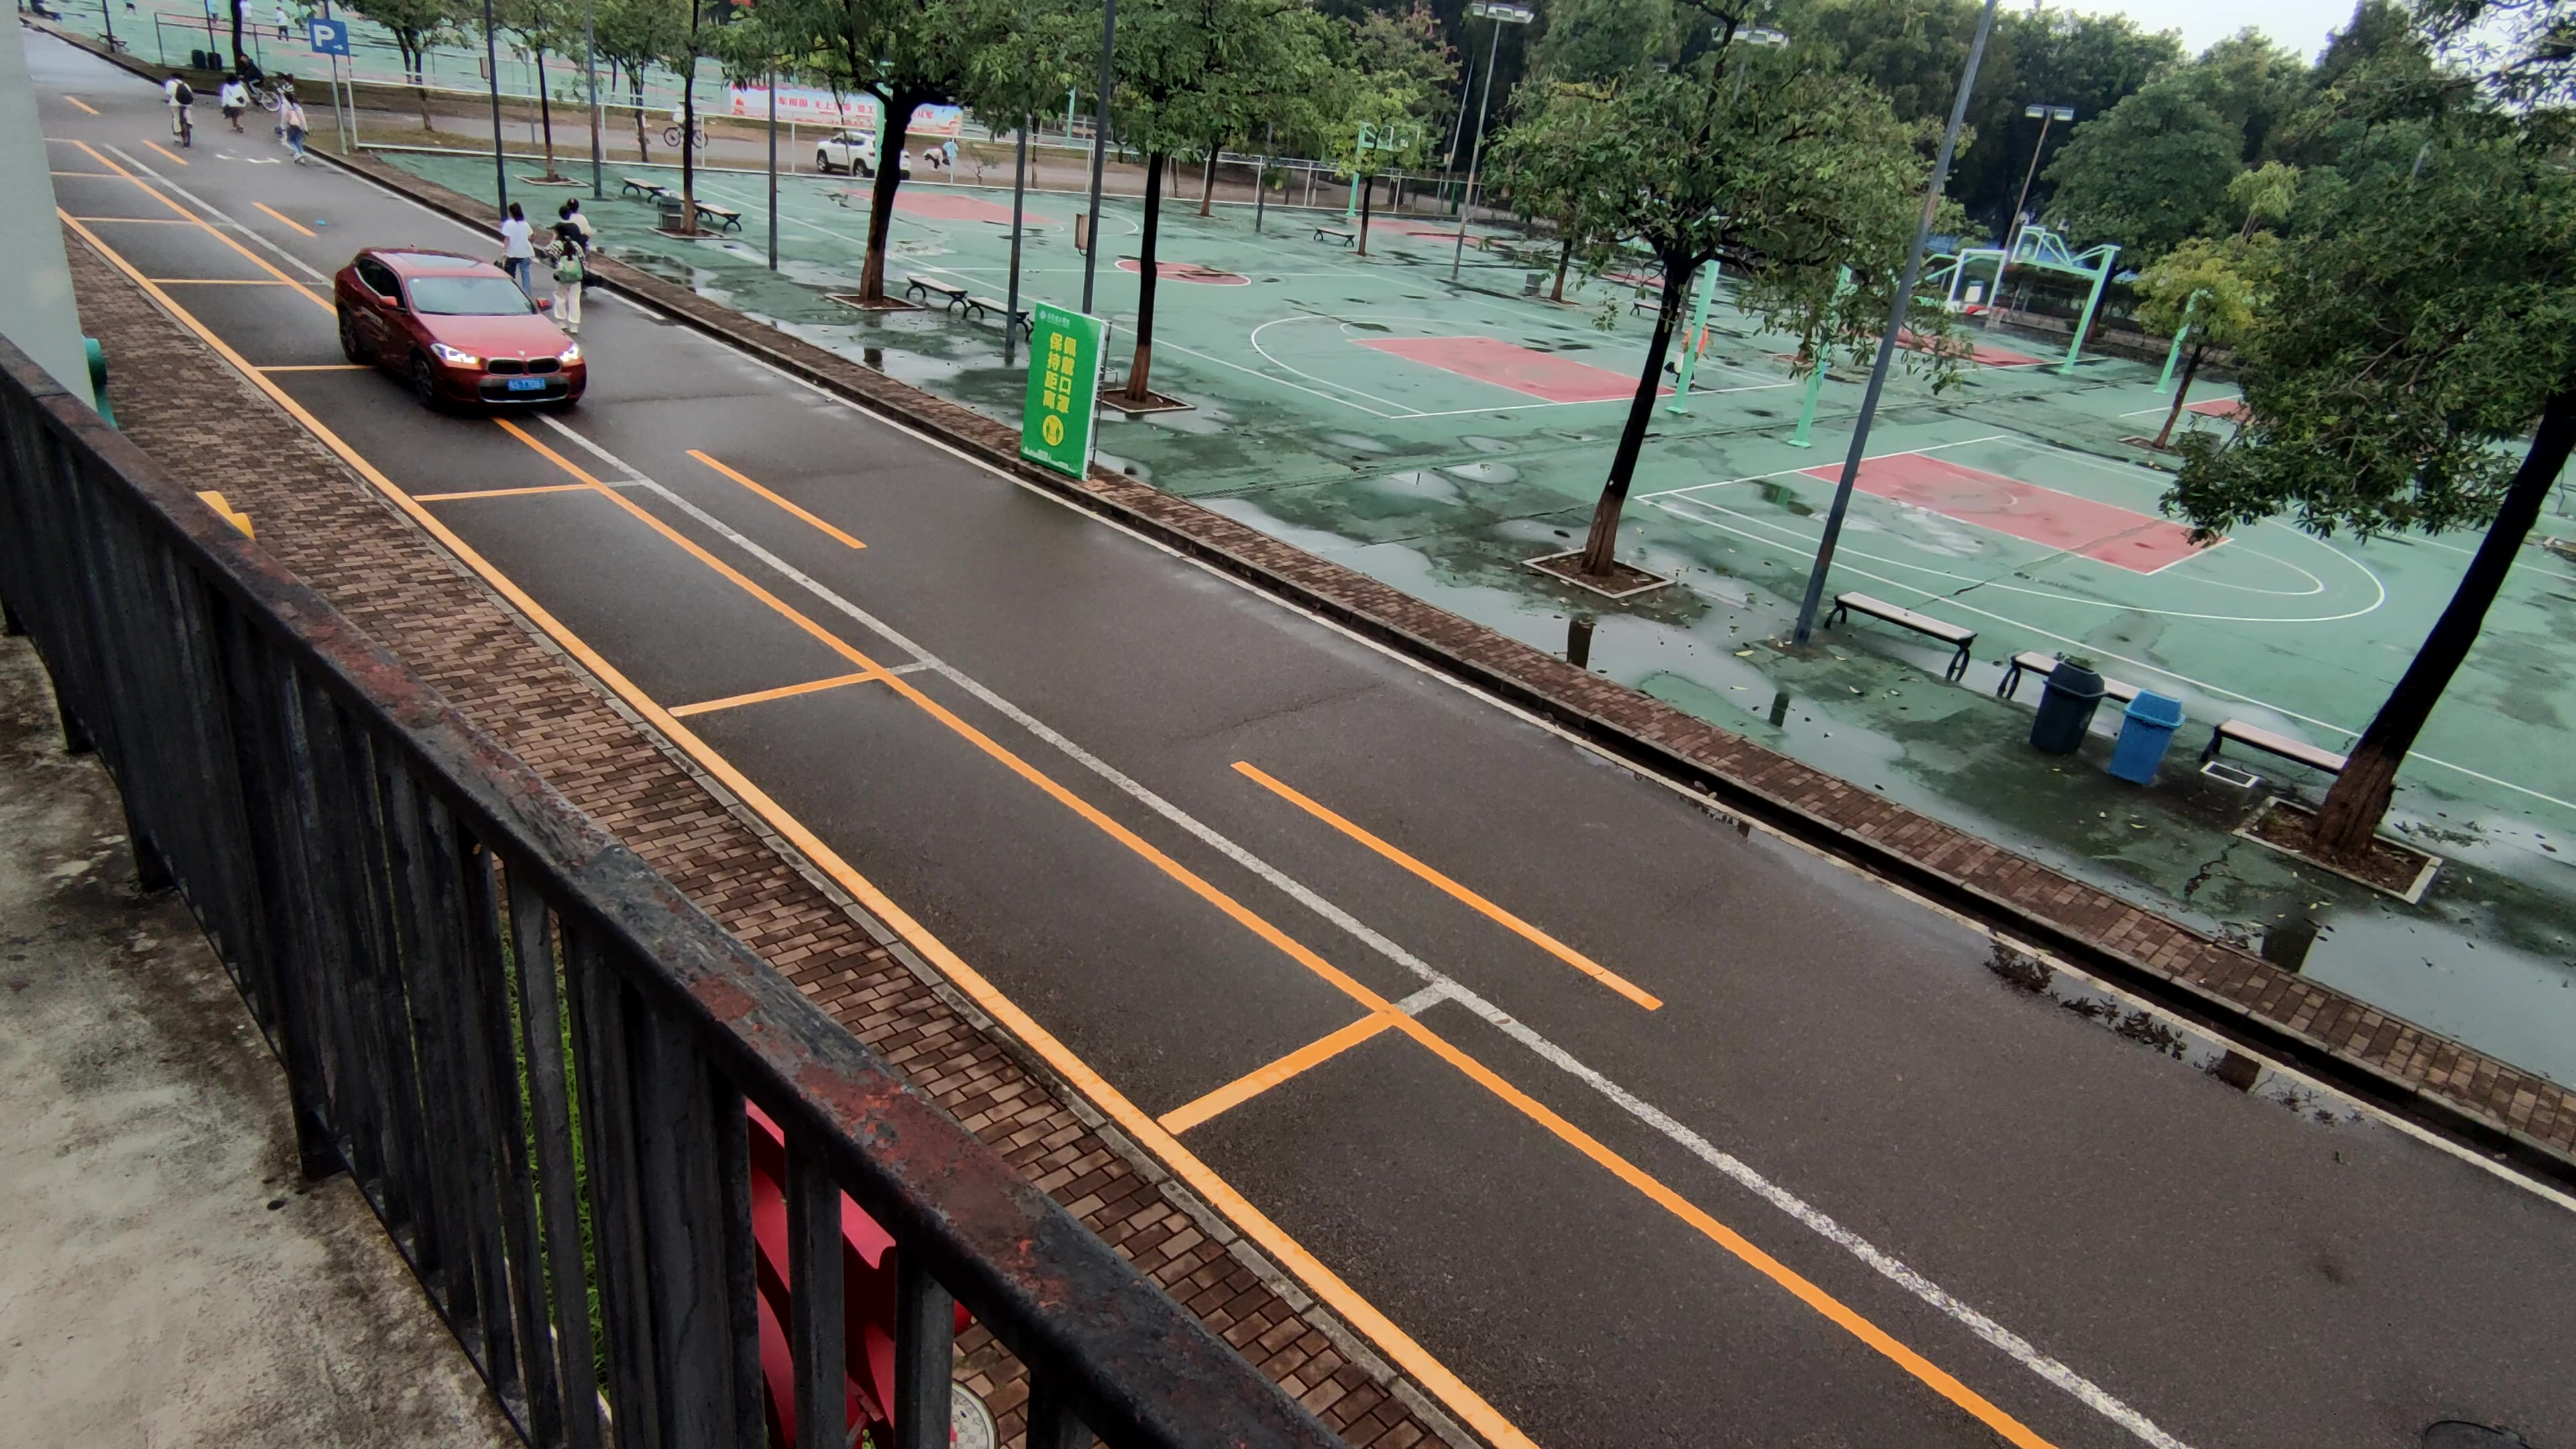space-empty: (648, 660, 1394, 1127), (402, 483, 881, 717), (255, 357, 614, 506), (145, 272, 386, 379), (58, 211, 299, 294)
